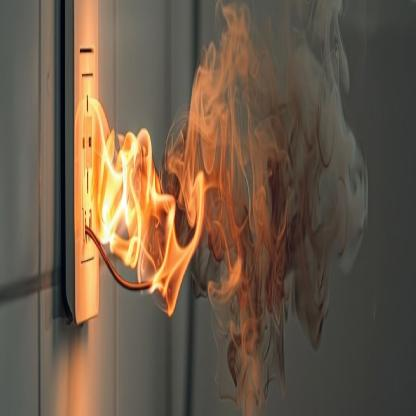fire: (80, 105, 201, 310)
smoke: (181, 0, 383, 403)
